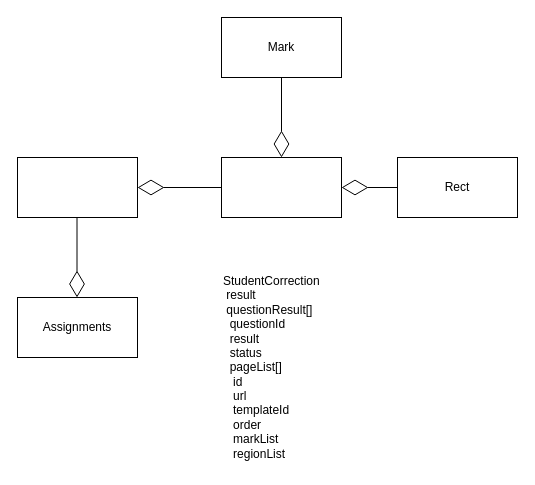
The diagram is 535 pixels wide and 485 high, and some of its shapes have lost their labels. The shapes that lost their labels are listed below. From the top down, each one's box as (x1, y1, x2, y2) in pixels, then its label:
(16, 156, 138, 218): Question
(220, 156, 342, 218): Page
